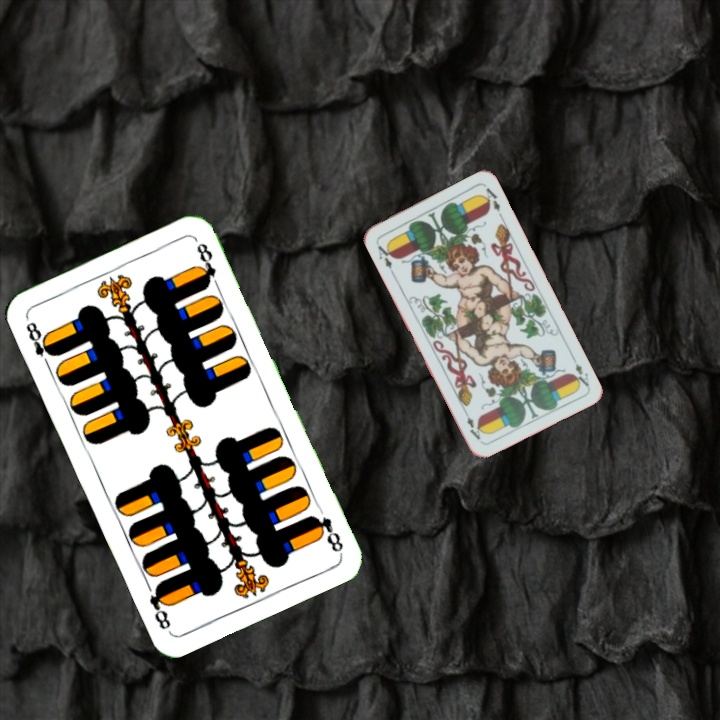E8: (21, 317, 59, 370), (307, 510, 346, 556)
EA: (372, 239, 397, 277), (567, 352, 591, 390)
